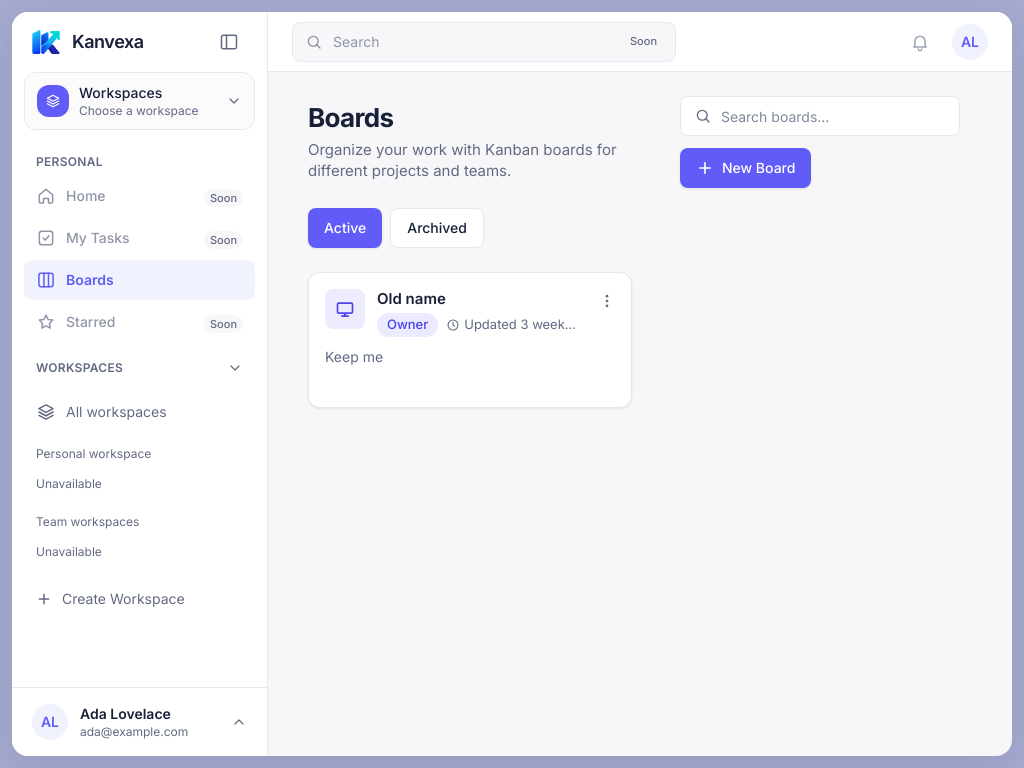
Scenario: edit and archive board › edits a board, sending only the changed fields
This screenshot has width=1024, height=768.
Click the button named "Actions for Old name". click: (607, 301)
box: 591,285 -> 623,317
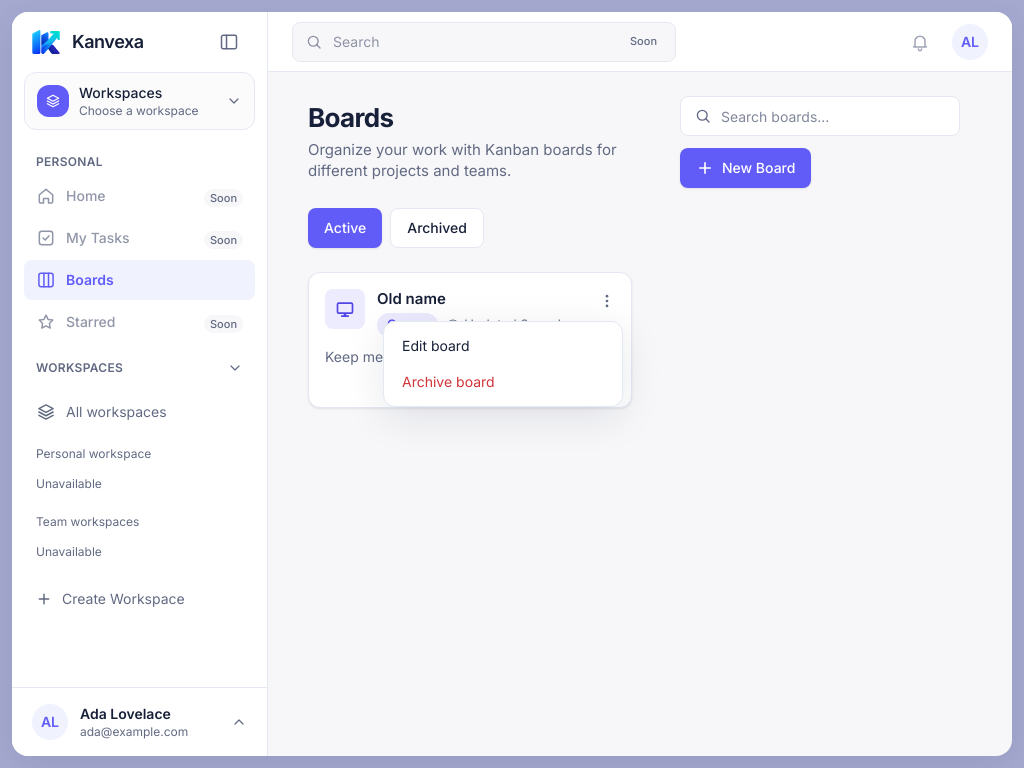
Click the button "Edit board". click: (503, 346)
box: 390,328 -> 616,364
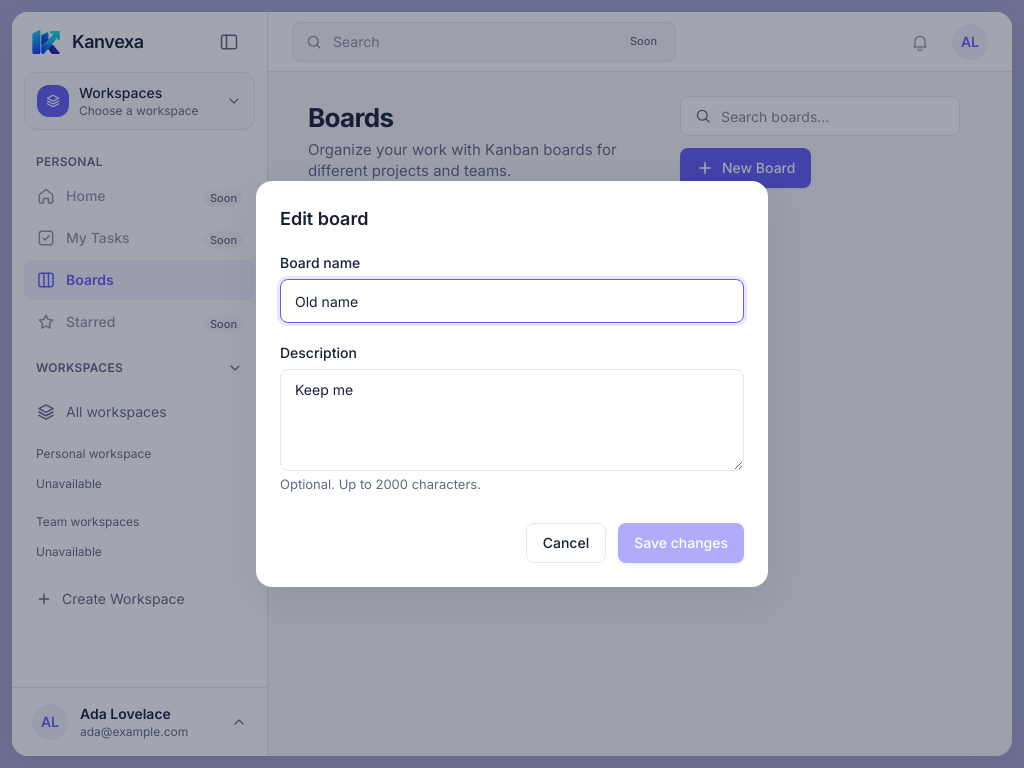
Expected: the field labelled "Board name" holds "Old name"
Expected: the button "Save changes" is disabled, 618,523 -> 744,563
Replace the text in the field labelled "Board name" with "New name". click: (512, 301)
box: 280,279 -> 744,323
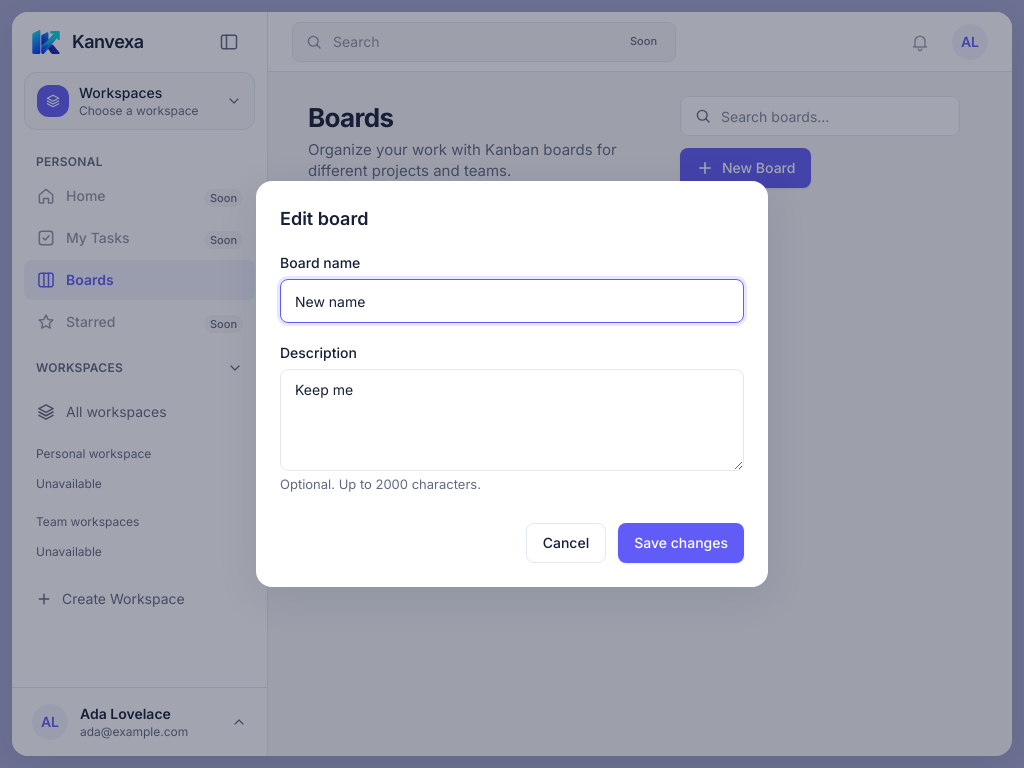
Click the button "Save changes". click: (681, 543)
box: 618,523 -> 744,563
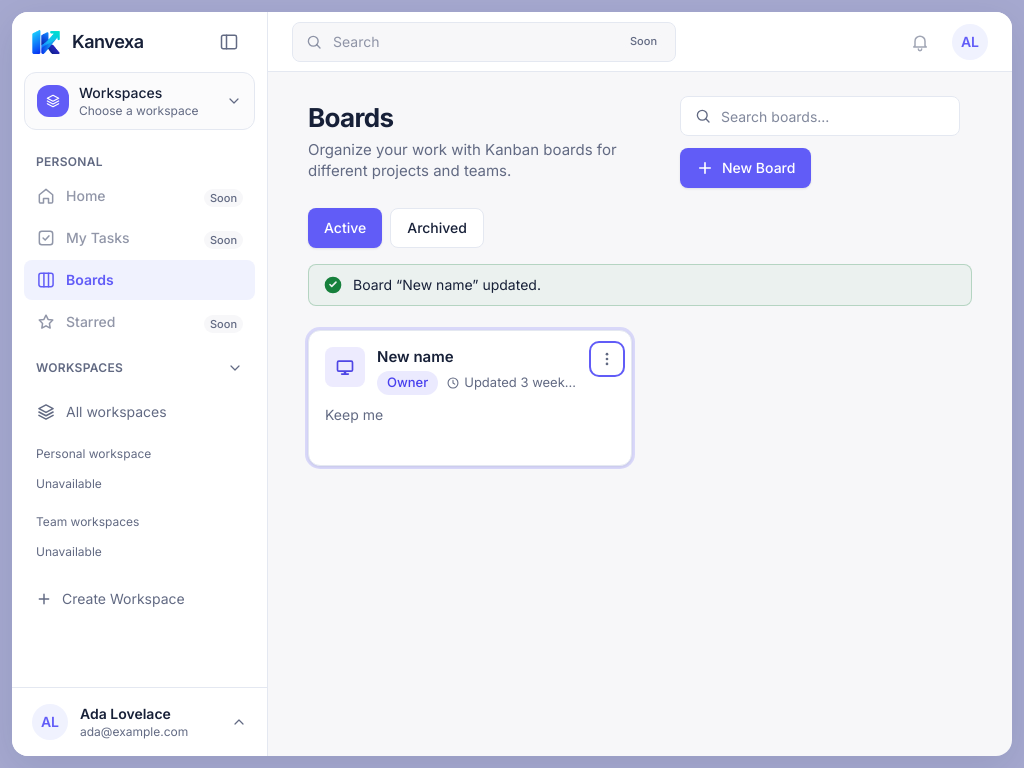
Expected: the message reads "Board “New name” updated.", 353,276 -> 541,293
Expected: the link "New name" is shown, 377,347 -> 454,366
